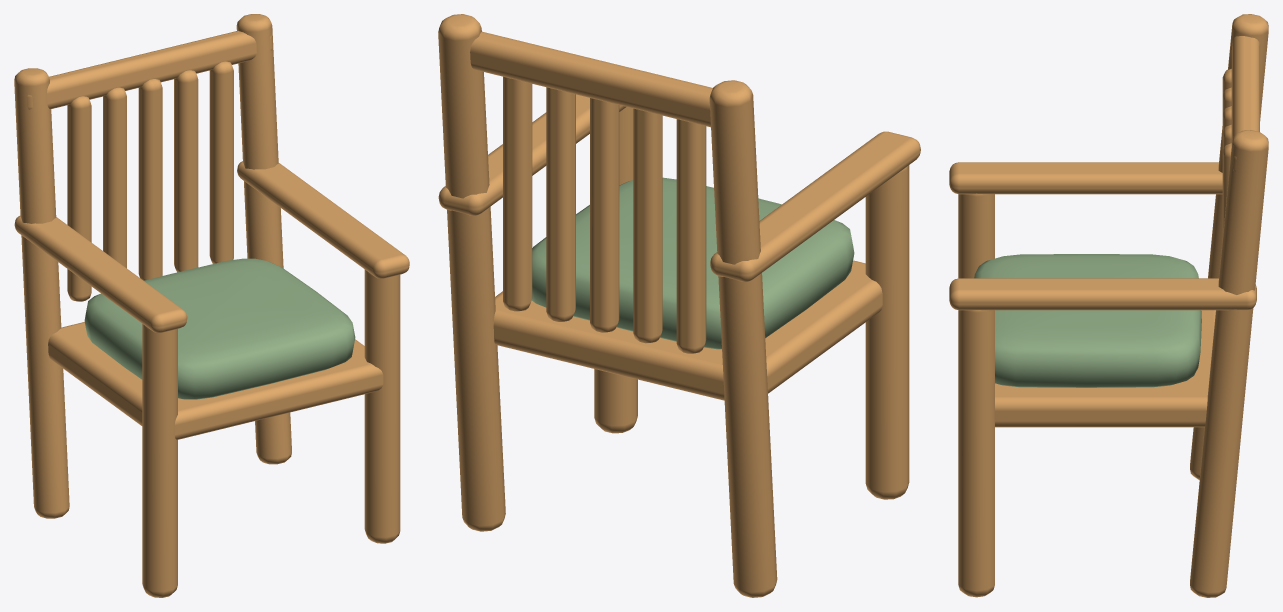
The model's file is slat_armchair.glb.
3 renders of one model, left to right at view 1: azimuth 30°, elevation 25°; view 2: azimuth 150°, elevation 25°; view 3: azimuth 270°, elevation 25°, orthographic. The views are drawn at different scales.
Visible parts, largest first — view 1: slat_armchair_mesh; view 2: slat_armchair_mesh; view 3: slat_armchair_mesh.
Boxes of the visible parts, <box> form: slat_armchair_mesh: <box>14,14,409,597</box>; slat_armchair_mesh: <box>438,14,920,597</box>; slat_armchair_mesh: <box>949,14,1268,597</box>.
Size of the model in its own units: 0.58 by 0.9229 by 0.5816.
